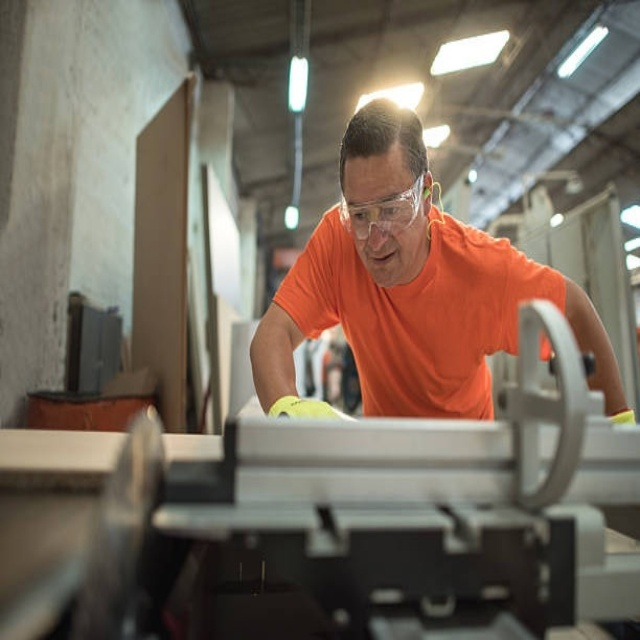Gafas: (341, 173, 425, 242)
Sin_mascara: (359, 244, 404, 280)
